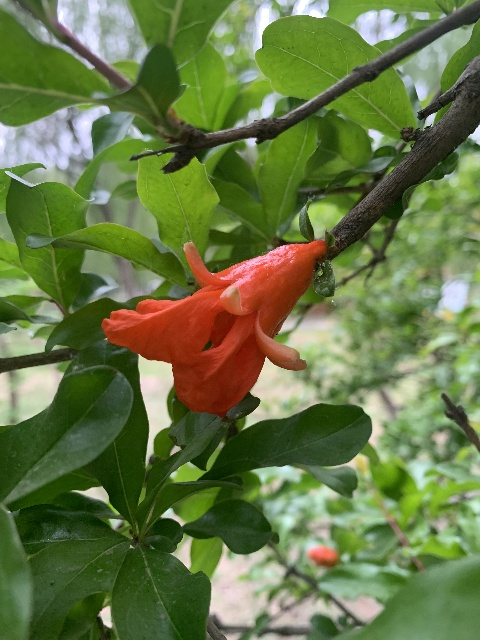bud: (307, 545, 340, 568)
flower: (100, 237, 326, 417)
